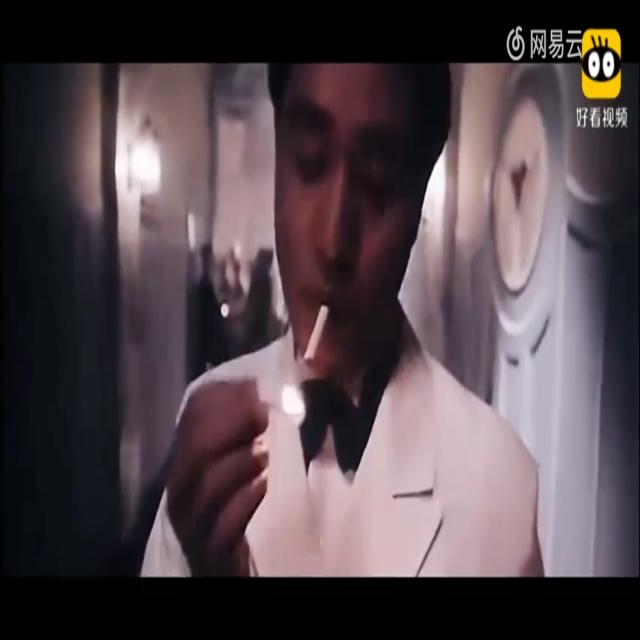cigarette: (301, 301, 337, 380)
